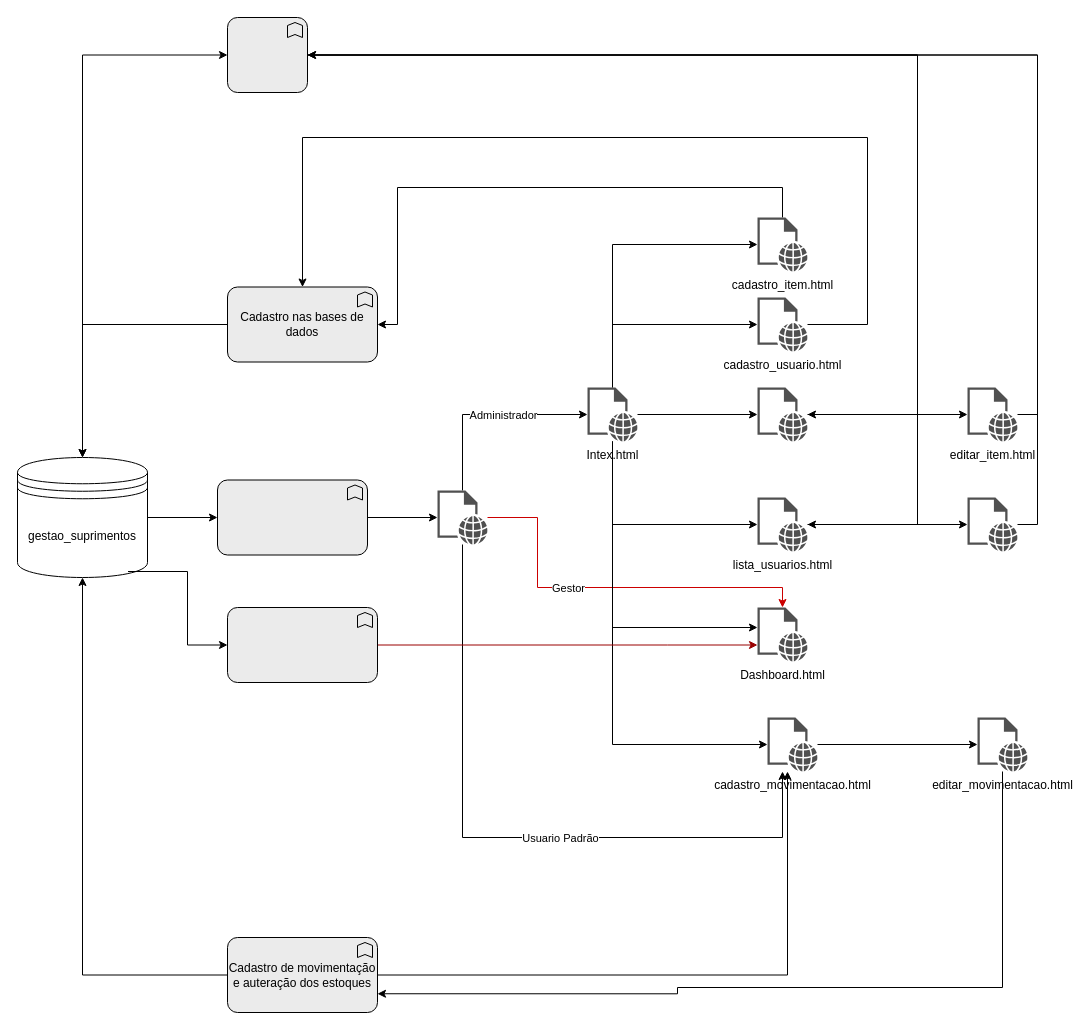
Image size: 1090x1030. Some labels were removed from this diagram. Here are the shapes that lost their labels. From the top down, the centre of each, then its label:
(x=267, y=54): Visualização e alteração de dados
(x=782, y=414): lista_itens.html
(x=292, y=517): Verifica o login, senha e status
(x=462, y=517): Login.html
(x=992, y=524): editar_usuario.html
(x=302, y=644): Visualização informações
